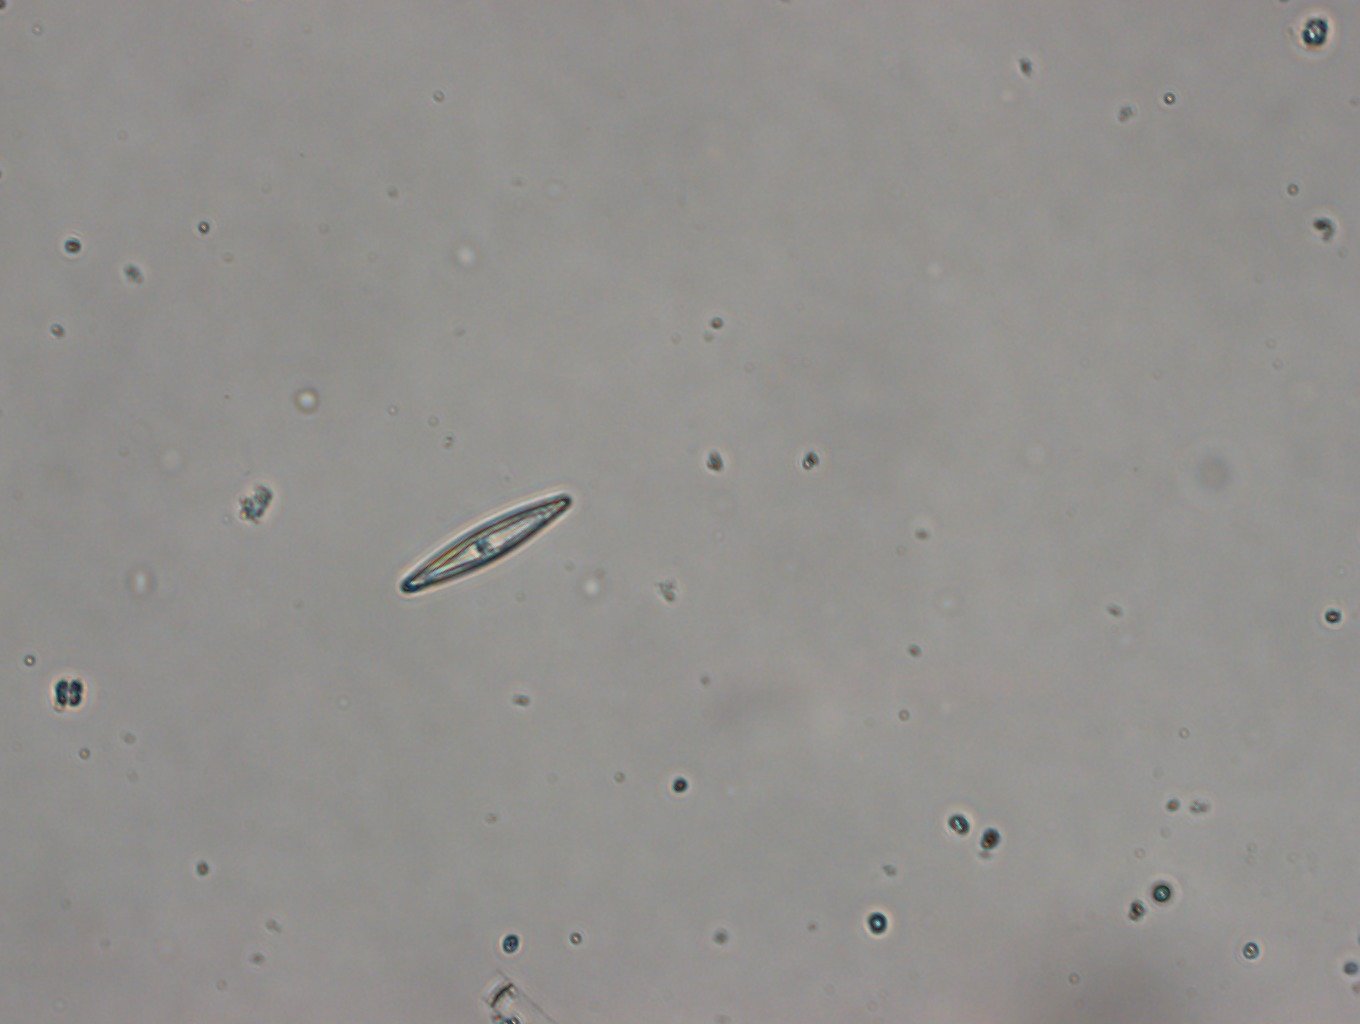navicula: (398, 490, 575, 597)
